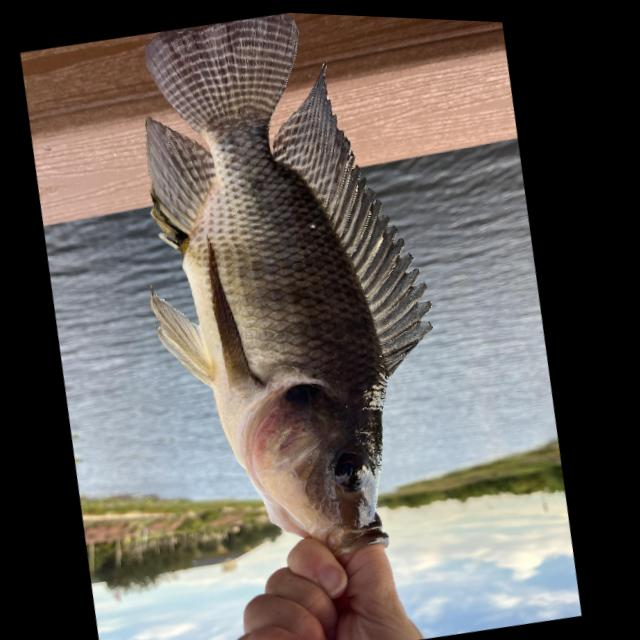Tilapia: (82, 5, 490, 589)
